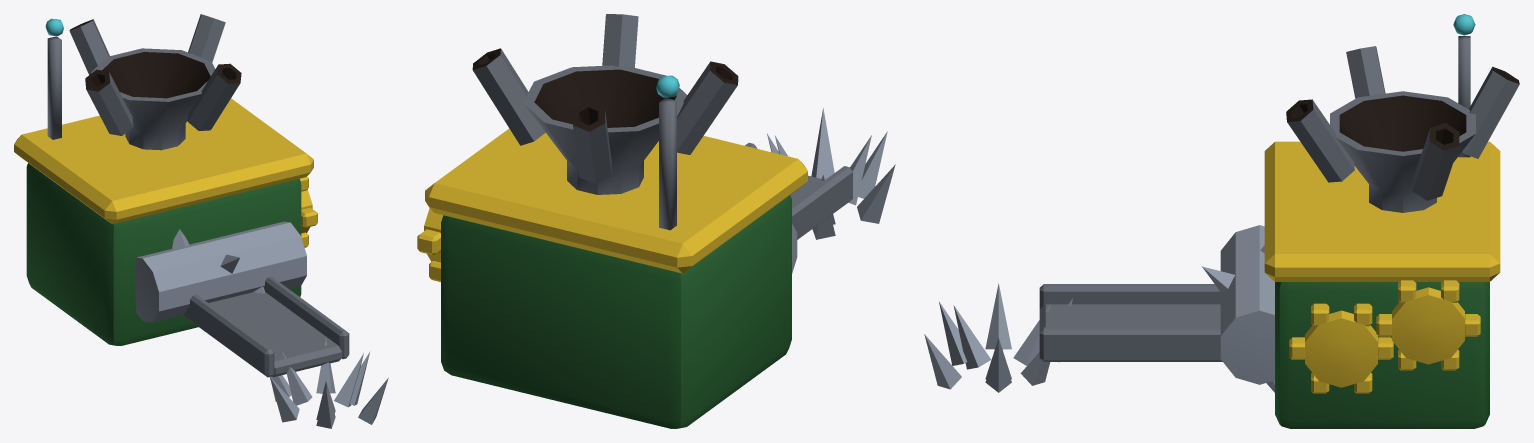
3 renders of one model, left to right at view 1: azimuth 30°, elevation 25°; view 2: azimuth 150°, elevation 25°; view 3: azimuth 270°, elevation 25°, orthographic. The views are drawn at different scales.
Parts seen in each view (by area): view 1: espinhos_0_base; view 2: espinhos_0_base; view 3: espinhos_0_base.
Boxes of the visible parts, x1,y1,x2,y2 form: espinhos_0_base: (14, 14, 388, 428); espinhos_0_base: (417, 14, 895, 428); espinhos_0_base: (924, 14, 1519, 428).
Size of the model in its own units: 0.596 by 0.6918 by 1.16.
